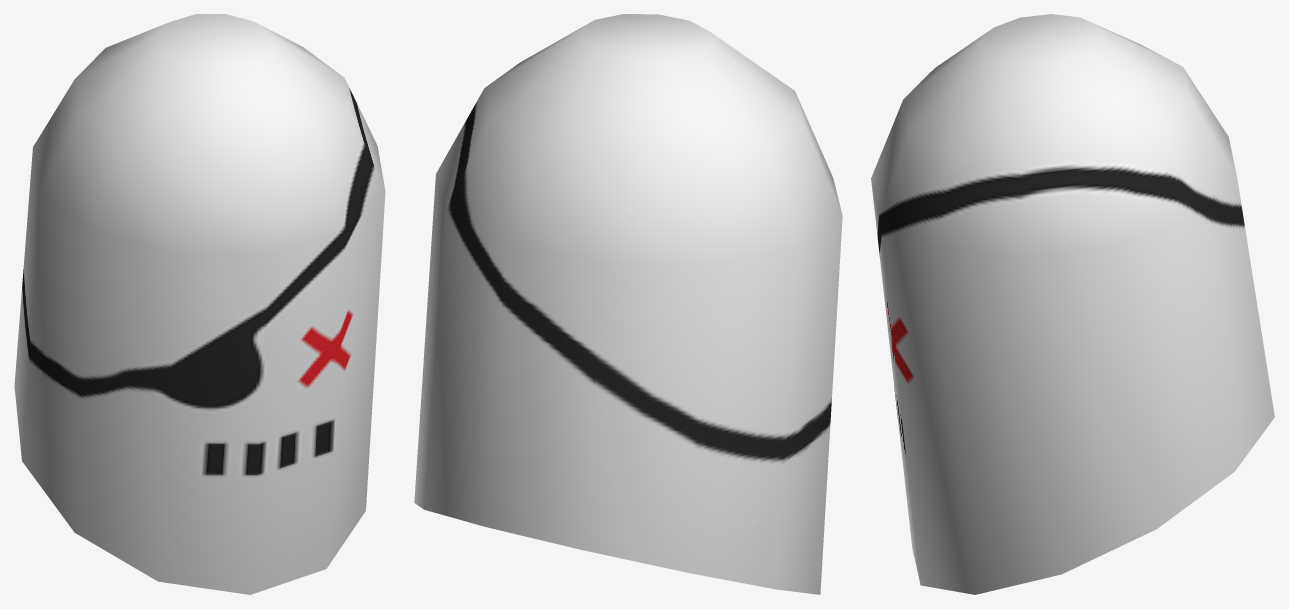
The model's file is hat_madfinger.FBX.
The picture shows the model from 3 angles, left to right: view 1: azimuth 30°, elevation 25°; view 2: azimuth 150°, elevation 25°; view 3: azimuth 270°, elevation 25°; orthographic projection. The views are drawn at different scales.
Parts seen in each view (by area): view 1: hat_madfinger; view 2: hat_madfinger; view 3: hat_madfinger.
Boxes of the visible parts, box(x1,y1,x2,y2) form: hat_madfinger: box(14, 14, 385, 594); hat_madfinger: box(414, 14, 842, 594); hat_madfinger: box(871, 14, 1274, 594).
Size of the model in its own units: 25.02 by 39.56 by 27.5.
Materials: 1 (1 with a texture image).
